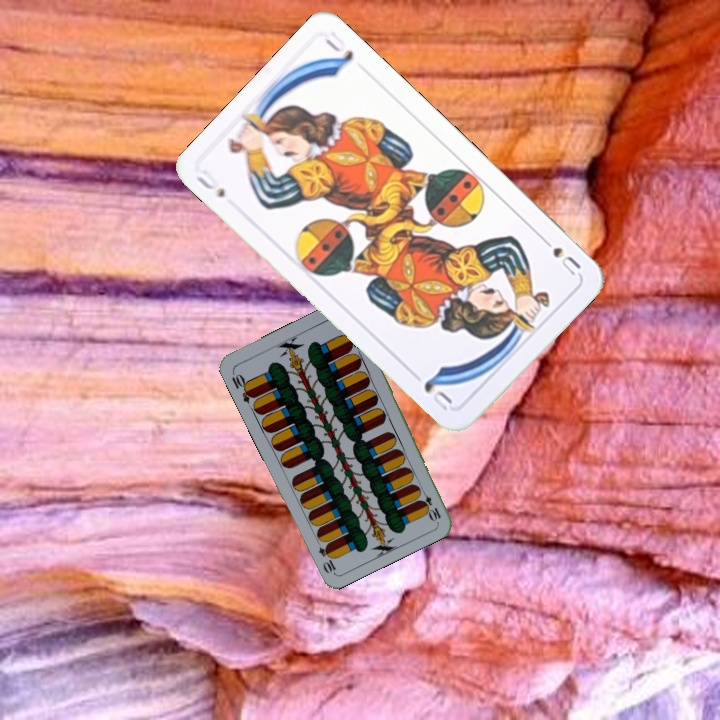E10: (227, 368, 257, 406), (416, 485, 444, 524)
SU: (535, 231, 584, 278), (192, 166, 228, 201)
